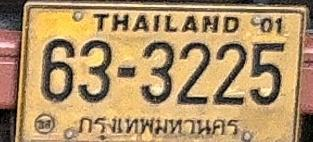2: (177, 41, 211, 104), (214, 41, 246, 104)
3: (141, 40, 175, 104), (79, 38, 112, 102)
5: (250, 42, 285, 105)
6: (41, 38, 75, 102)
BKK: (74, 110, 242, 142)
